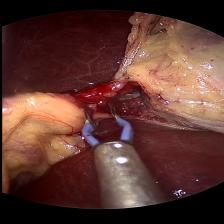Bipolar: (74, 100, 144, 170)
